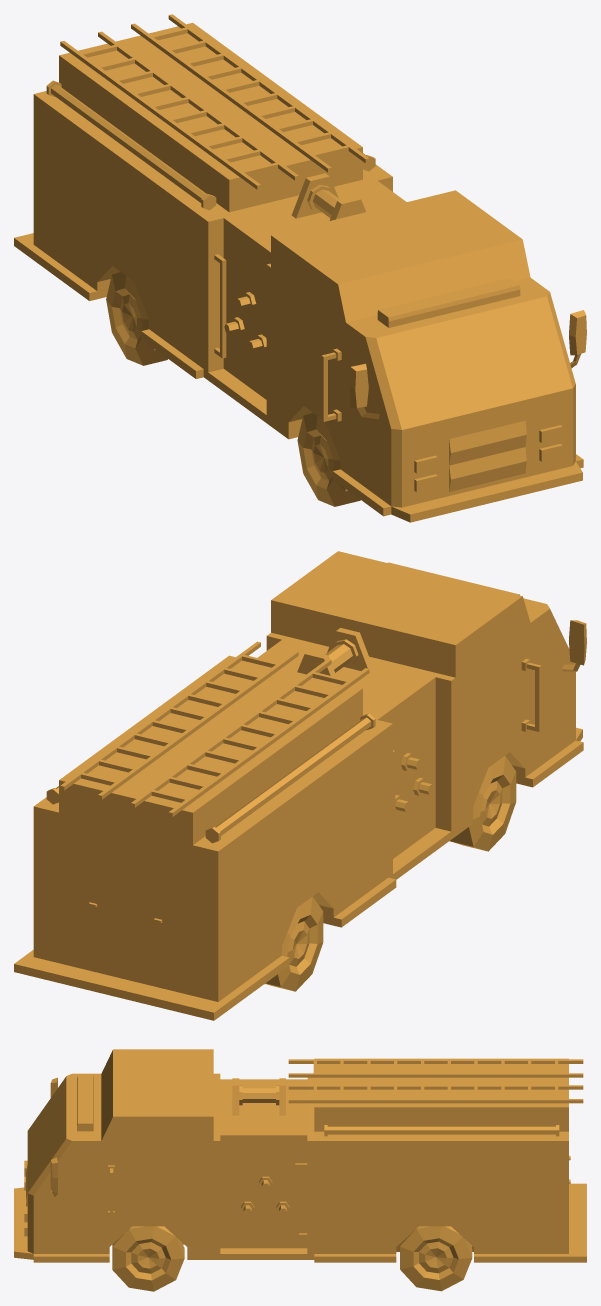
File: firetruck.glb
3 views of the same model, one above another, from view 1: azimuth 30°, elevation 25°; view 2: azimuth 150°, elevation 25°; view 3: azimuth 270°, elevation 25° (orthographic). The views are drawn at different scales.
Visible parts, largest first — view 1: firetruck-base, firetruckwheel_FR, firetruck-wheel_BR; view 2: firetruck-base, firetruckwheel_FR, firetruck-wheel_BR; view 3: firetruck-base, firetruck-wheel_FL, firetruck-wheel_BL.
Boxes of the visible parts, box(x1,y1,x2,y2) form: firetruck-base: box(14, 14, 586, 522); firetruckwheel_FR: box(297, 412, 360, 506); firetruck-wheel_BR: box(106, 272, 167, 365); firetruck-base: box(14, 551, 586, 1020); firetruckwheel_FR: box(449, 756, 516, 851); firetruck-wheel_BR: box(264, 896, 323, 991); firetruck-base: box(14, 1049, 586, 1262); firetruck-wheel_FL: box(112, 1226, 184, 1291); firetruck-wheel_BL: box(400, 1226, 472, 1291).
Size of the model in its own units: 3.02 by 2.97 by 8.54.
